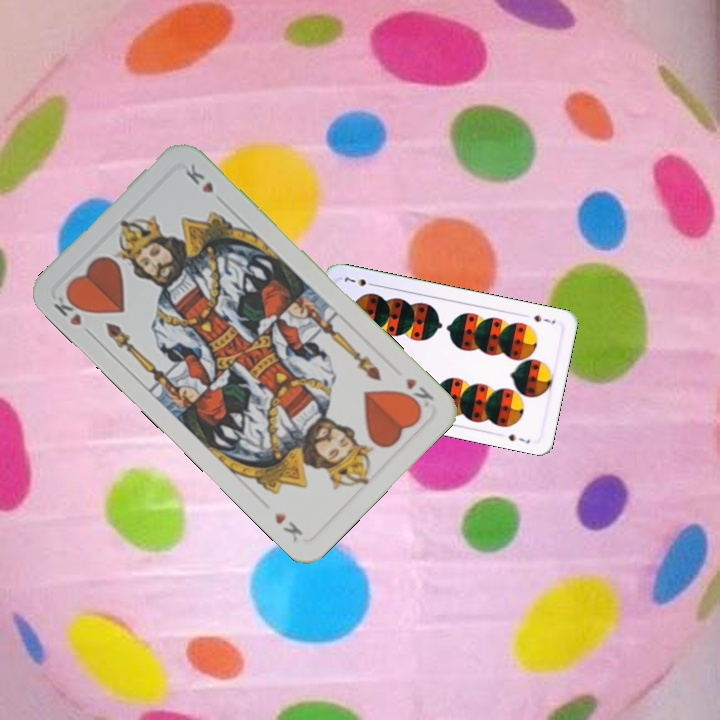HK: (49, 288, 92, 329), (397, 373, 437, 413)
S7: (530, 311, 558, 326)
